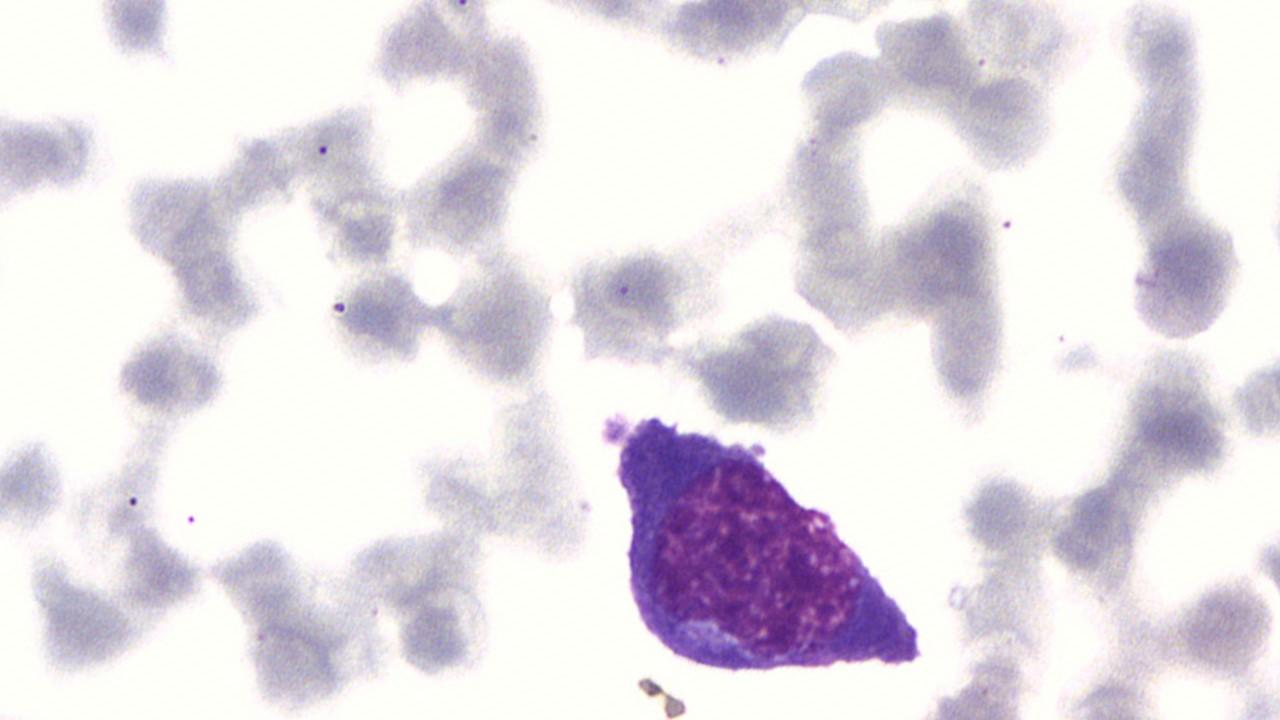Platelets: (1124, 211, 1250, 347), (0, 99, 112, 214), (111, 325, 229, 423), (953, 466, 1047, 559), (1, 431, 72, 535), (92, 1, 182, 71), (1232, 354, 1280, 446), (1253, 526, 1280, 602)
RBC: (768, 0, 1099, 335)
WBC: (6, 9, 614, 720), (596, 393, 944, 692), (0, 421, 210, 703), (484, 0, 880, 84), (1120, 208, 1246, 346), (109, 328, 234, 431)
